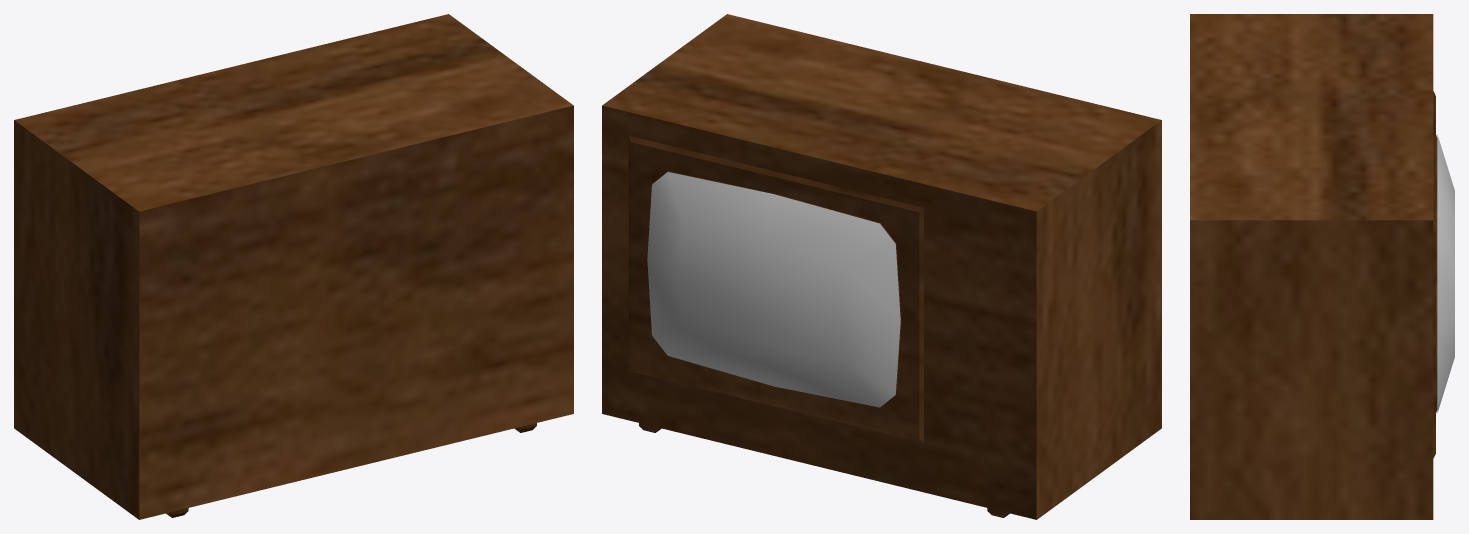
3 renders of one model, left to right at view 1: azimuth 30°, elevation 25°; view 2: azimuth 150°, elevation 25°; view 3: azimuth 270°, elevation 25°, orthographic. The views are drawn at different scales.
Parts seen in each view (by area): view 1: TV; view 2: TV, ScreenMabob; view 3: TV, ScreenMabob.
Part boxes in pixels (box(x1,y1,x2,y2)): TV: box(14, 14, 573, 519); TV: box(602, 14, 1161, 519); ScreenMabob: box(647, 172, 900, 407); TV: box(1190, 14, 1437, 519); ScreenMabob: box(1437, 134, 1454, 412).
Size of the model in its own units: 401 by 282 by 218.
